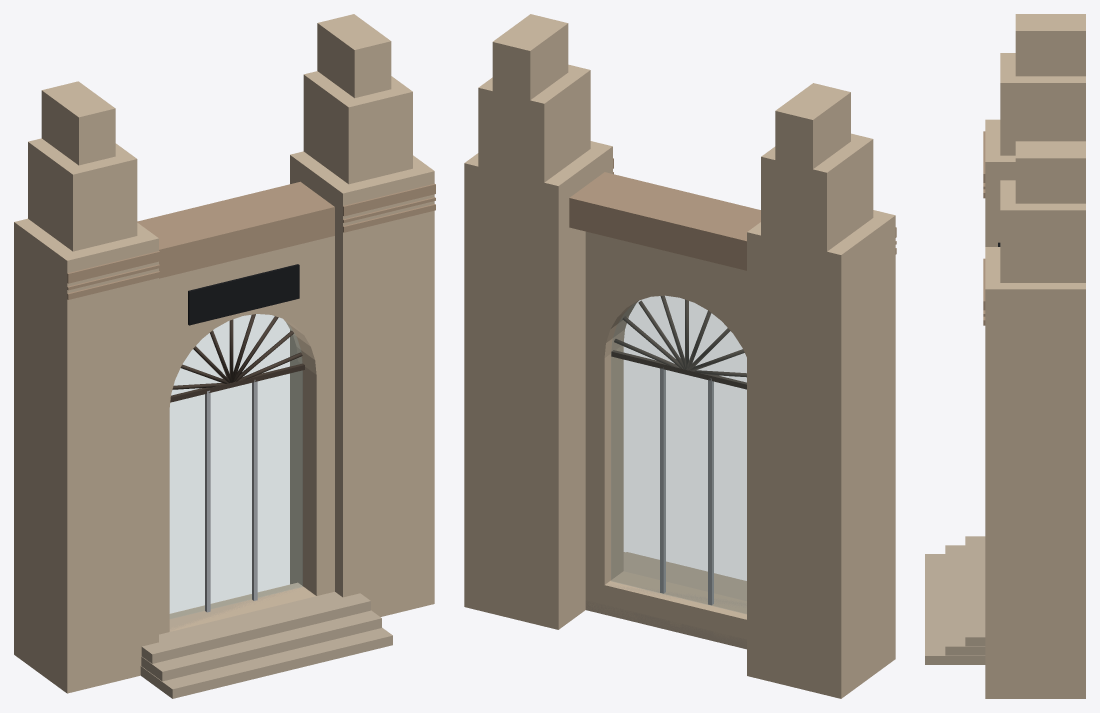
The model's file is city_gallery_entrance.glb.
3 renders of one model, left to right at view 1: azimuth 30°, elevation 25°; view 2: azimuth 150°, elevation 25°; view 3: azimuth 270°, elevation 25°, orthographic. The views are drawn at different scales.
Visible parts, largest first — view 1: CityGalleryEntrance_Tower0.0, CityGalleryEntrance_Tower6.0, CityGalleryEntrance_Glazing, CityGalleryEntrance_Front, CityGalleryEntrance_Crown, CityGalleryEntrance_TowerStep0.0, CityGalleryEntrance_TowerStep6.0, CityGalleryEntrance_Step2, CityGalleryEntrance_TowerCap0.0, CityGalleryEntrance_TowerCap6.0, CityGalleryEntrance_Step0, CityGalleryEntrance_Step1 (+8 smaller); view 2: CityGalleryEntrance_Tower0.0, CityGalleryEntrance_Tower6.0, CityGalleryEntrance_Glazing, CityGalleryEntrance_Front, CityGalleryEntrance_Crown, CityGalleryEntrance_TowerStep0.0, CityGalleryEntrance_TowerStep6.0, CityGalleryEntrance_TowerCap6.0, CityGalleryEntrance_TowerCap0.0, CityGalleryEntrance_Step2, CityGalleryEntrance_Step0, CityGalleryEntrance_MullionL (+2 smaller); view 3: CityGalleryEntrance_Tower6.0, CityGalleryEntrance_TowerStep6.0, CityGalleryEntrance_TowerStep0.0, CityGalleryEntrance_TowerCap6.0, CityGalleryEntrance_TowerCap0.0, CityGalleryEntrance_Step0, CityGalleryEntrance_Step1, CityGalleryEntrance_Tower0.0, CityGalleryEntrance_Step2.
Boxes of the visible parts, box(x1,y1,x2,y2) form: CityGalleryEntrance_Tower0.0: box(14, 218, 158, 693); CityGalleryEntrance_Tower6.0: box(290, 151, 434, 616); CityGalleryEntrance_Glazing: box(170, 314, 302, 618); CityGalleryEntrance_Front: box(159, 236, 334, 634); CityGalleryEntrance_Crown: box(137, 181, 334, 278); CityGalleryEntrance_TowerStep0.0: box(28, 138, 137, 251); CityGalleryEntrance_TowerStep6.0: box(303, 71, 412, 184); CityGalleryEntrance_Step2: box(141, 583, 370, 663); CityGalleryEntrance_TowerCap0.0: box(41, 81, 115, 165); CityGalleryEntrance_TowerCap6.0: box(317, 14, 391, 98); CityGalleryEntrance_Step0: box(140, 627, 392, 698); CityGalleryEntrance_Step1: box(141, 610, 381, 681); CityGalleryEntrance_Tower0.0: box(747, 210, 895, 698); CityGalleryEntrance_Tower6.0: box(464, 141, 612, 629); CityGalleryEntrance_Glazing: box(611, 296, 746, 613); CityGalleryEntrance_Front: box(585, 231, 746, 642); CityGalleryEntrance_Crown: box(569, 172, 760, 270); CityGalleryEntrance_TowerStep0.0: box(761, 133, 873, 251); CityGalleryEntrance_TowerStep6.0: box(478, 64, 590, 182); CityGalleryEntrance_TowerCap6.0: box(492, 14, 568, 100); CityGalleryEntrance_TowerCap0.0: box(775, 83, 850, 169); CityGalleryEntrance_Step2: box(605, 553, 746, 607); CityGalleryEntrance_Step0: box(585, 552, 746, 649); CityGalleryEntrance_MullionL: box(708, 378, 713, 605); CityGalleryEntrance_Tower6.0: box(985, 247, 1085, 698); CityGalleryEntrance_TowerStep6.0: box(1000, 180, 1085, 282); CityGalleryEntrance_TowerStep0.0: box(1000, 53, 1085, 155); CityGalleryEntrance_TowerCap6.0: box(1015, 141, 1085, 203); CityGalleryEntrance_TowerCap0.0: box(1015, 14, 1085, 76); CityGalleryEntrance_Step0: box(925, 554, 985, 664); CityGalleryEntrance_Step1: box(945, 545, 985, 655); CityGalleryEntrance_Tower0.0: box(985, 119, 1015, 246); CityGalleryEntrance_Step2: box(965, 536, 985, 646).
Bounding box in the file's own units: 8 × 11.6 × 3.2.
